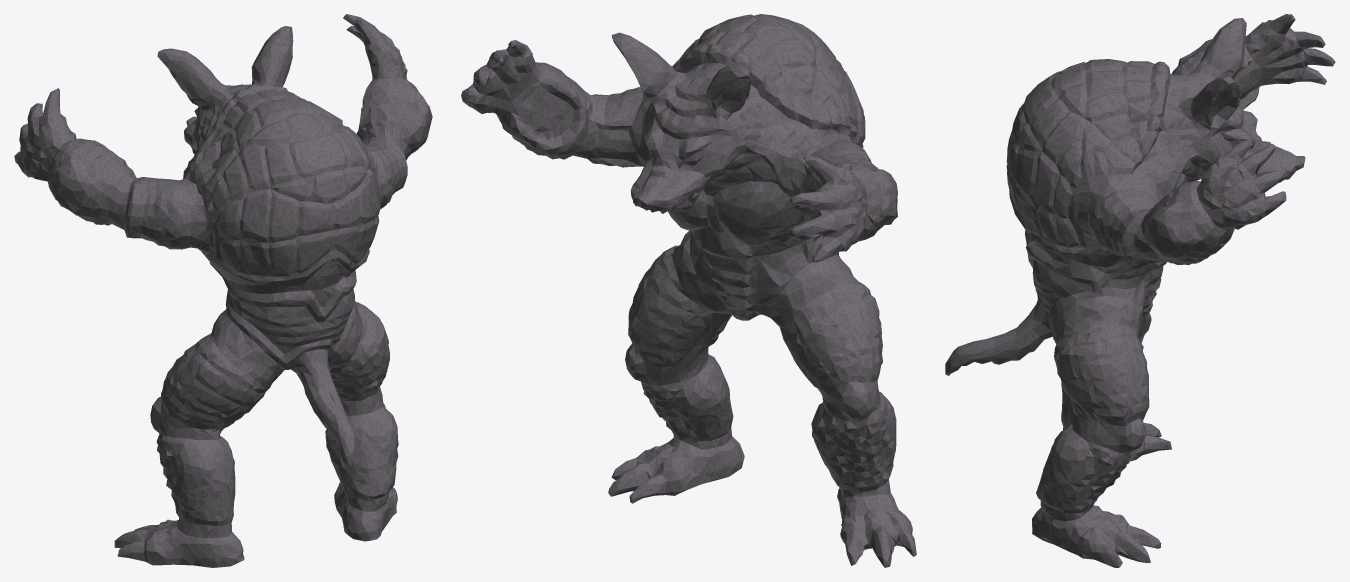
File: armadillo.obj
3 renders of one model, left to right at view 1: azimuth 30°, elevation 25°; view 2: azimuth 150°, elevation 25°; view 3: azimuth 270°, elevation 25°, orthographic. The views are drawn at different scales.
Parts seen in each view (by area): view 1: Armadillo; view 2: Armadillo; view 3: Armadillo.
Part boxes in pixels (box(x1,y1,x2,y2)): Armadillo: box(14, 14, 432, 567); Armadillo: box(461, 14, 916, 567); Armadillo: box(945, 14, 1335, 567).
Size of the model in its own units: 1.27 by 1.51 by 1.15.
